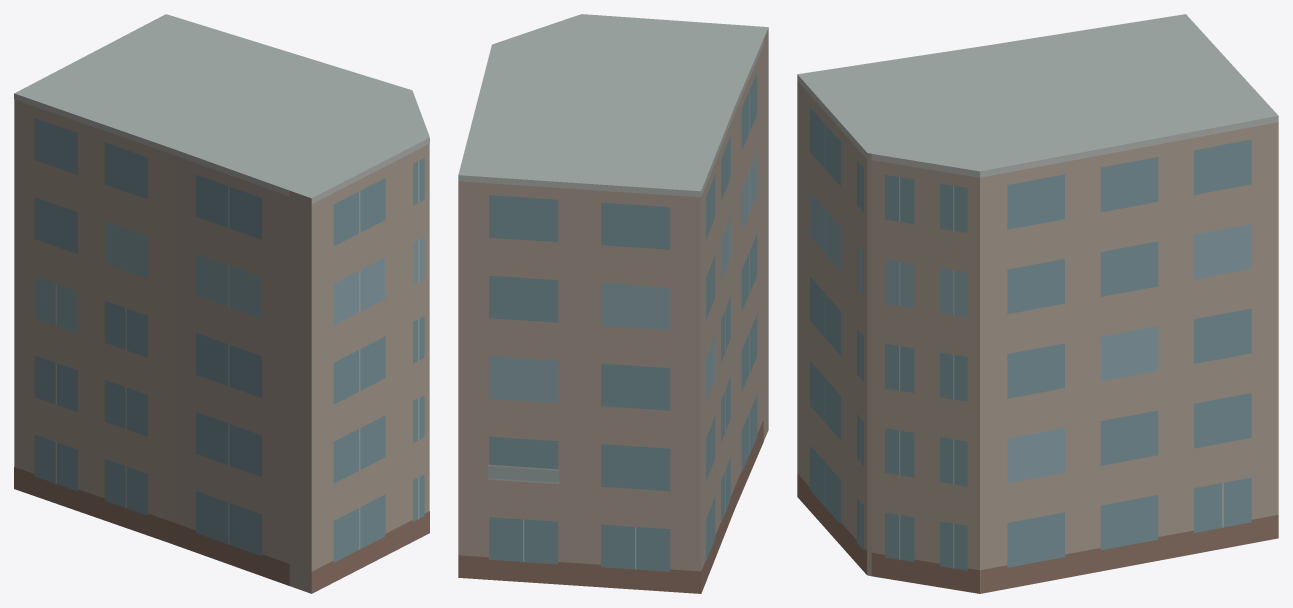
File: survey-upis-32696924.glb
The picture shows the model from 3 angles, left to right: view 1: azimuth 30°, elevation 25°; view 2: azimuth 150°, elevation 25°; view 3: azimuth 270°, elevation 25°; orthographic projection. The views are drawn at different scales.
Visible parts, largest first — view 1: survey-upis-32696924.tmp; view 2: survey-upis-32696924.tmp; view 3: survey-upis-32696924.tmp.
Part boxes in pixels (x1,y1,x2,y2): survey-upis-32696924.tmp: [14, 14, 429, 593]; survey-upis-32696924.tmp: [458, 14, 768, 593]; survey-upis-32696924.tmp: [797, 14, 1278, 593].
Size of the model in its own units: 12.87 by 16.1 by 16.64.
